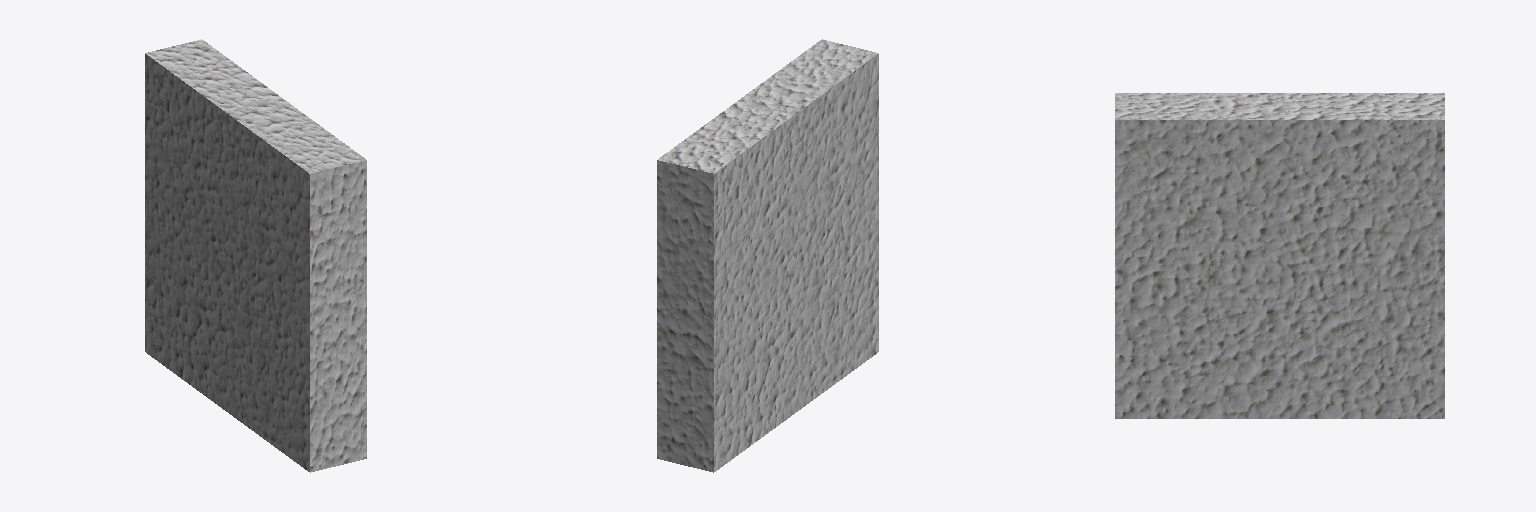
3 views of the same model, side by side, from view 1: azimuth 30°, elevation 25°; view 2: azimuth 150°, elevation 25°; view 3: azimuth 270°, elevation 25° (orthographic).
Size of the model in its own units: 0.4 by 2 by 2.
Materials: 1 (1 with a texture image).